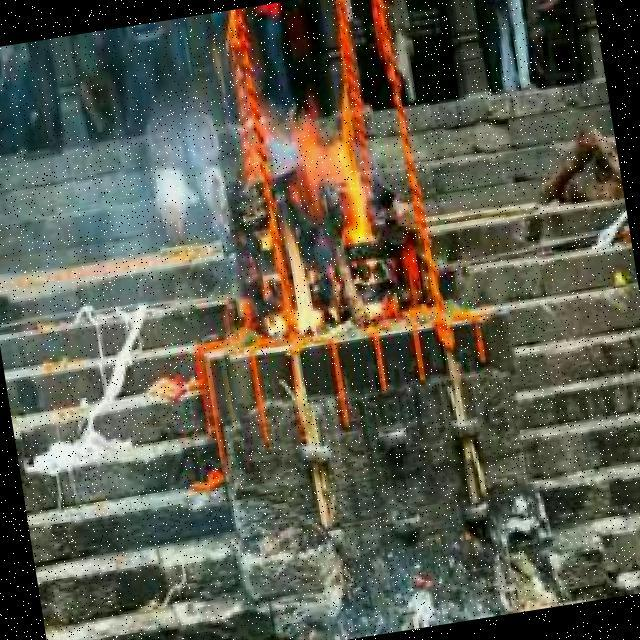Fire: (249, 85, 391, 342)
